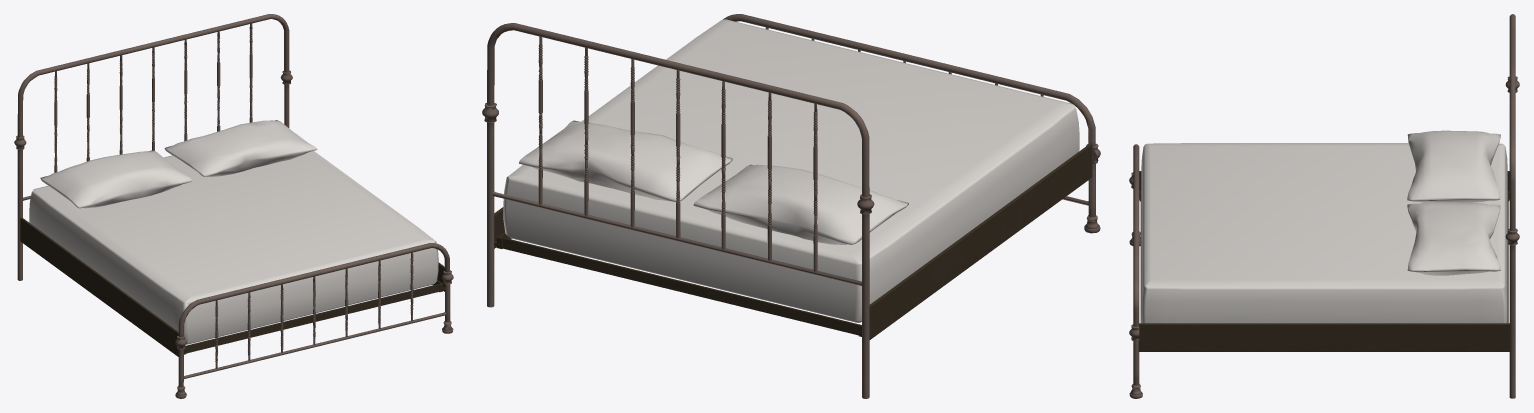
File: abo-B07B4Z7MP3.glb
3 renders of one model, left to right at view 1: azimuth 30°, elevation 25°; view 2: azimuth 150°, elevation 25°; view 3: azimuth 270°, elevation 25°, orthographic. The views are drawn at different scales.
Visible parts, largest first — view 1: RootNode; view 2: RootNode; view 3: RootNode.
Part boxes in pixels (x1,y1,x2,y2): RootNode: (14, 14, 453, 398); RootNode: (482, 14, 1100, 398); RootNode: (1129, 14, 1519, 398).
Size of the model in its own units: 2.04 by 1.44 by 2.13.
1 material, 1 textured.
